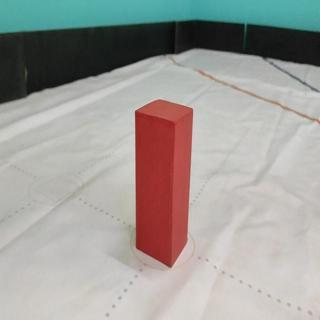redbox: (133, 98, 193, 268)
